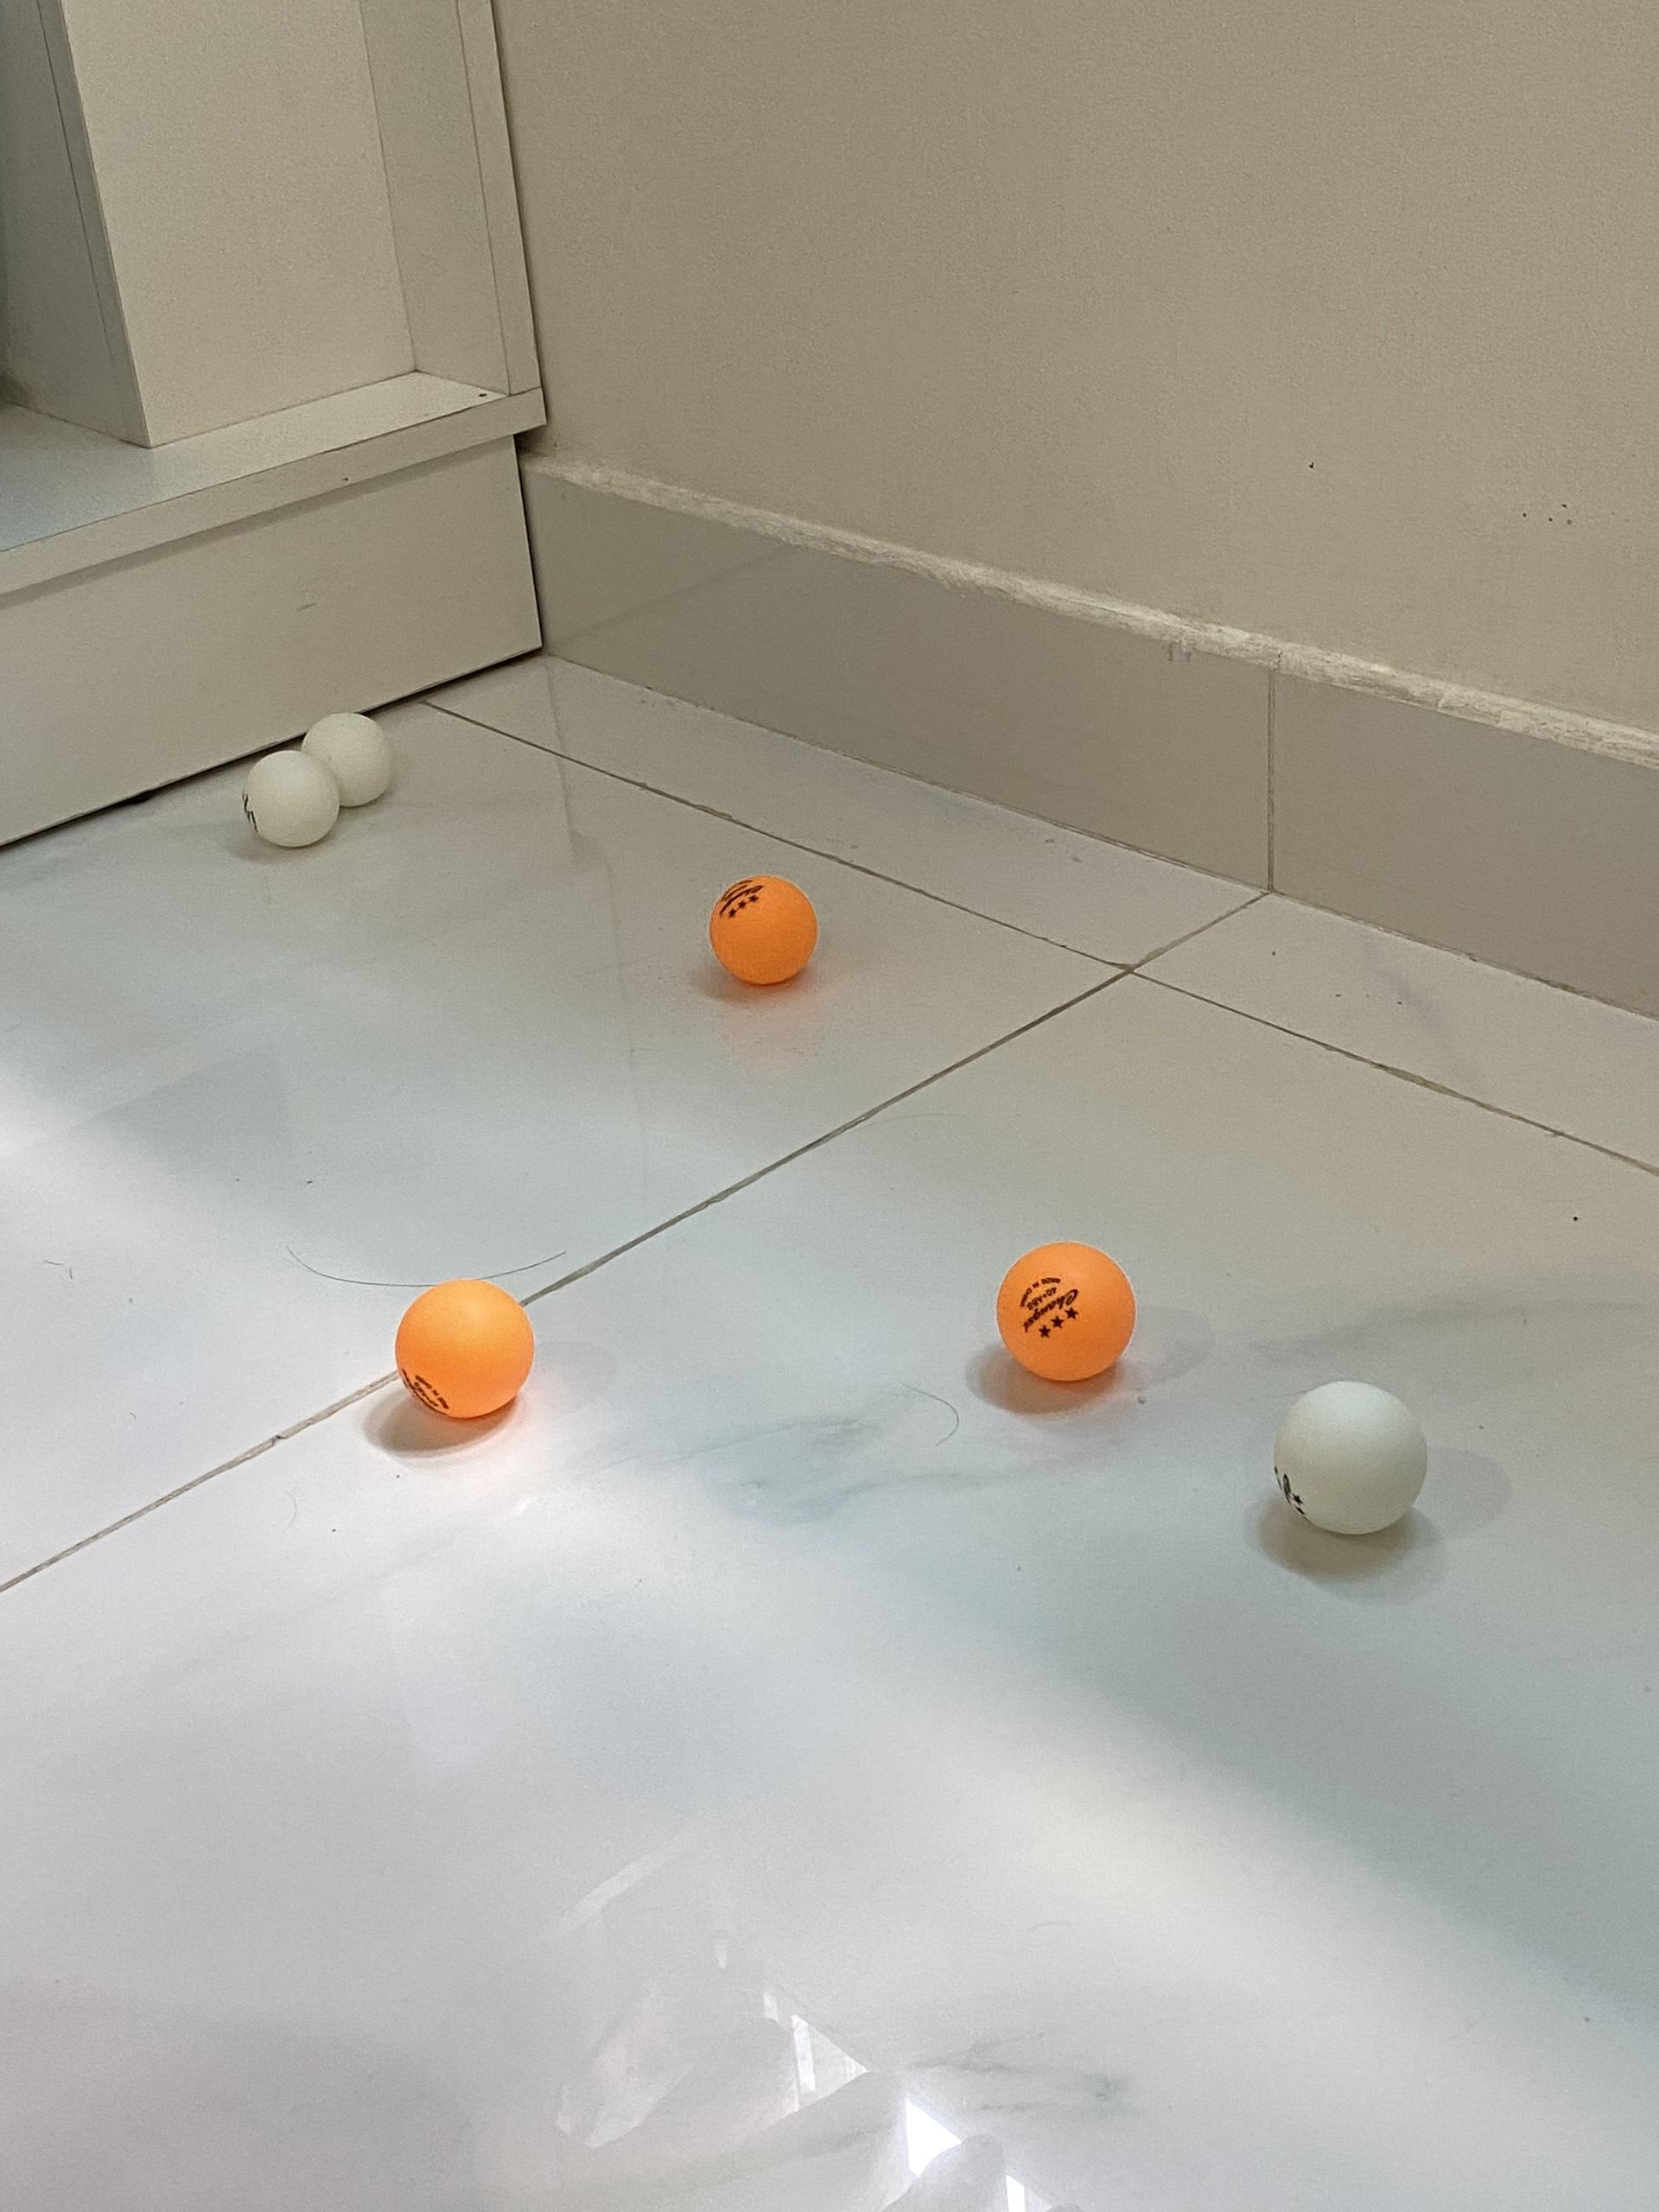oball: (993, 1235, 1134, 1385), (397, 1277, 533, 1420), (714, 873, 821, 979)
